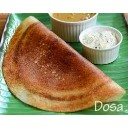dosa: (3, 15, 125, 106)
